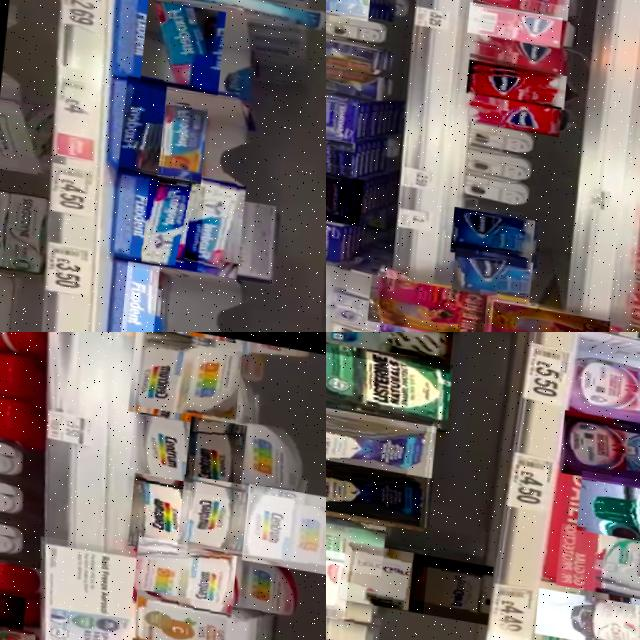Mouthwash: (326, 332, 453, 428), (326, 387, 436, 479), (326, 438, 433, 523)
Other: (126, 332, 241, 421), (132, 528, 238, 612), (131, 581, 271, 640), (241, 473, 326, 566), (558, 400, 640, 496), (555, 514, 640, 605), (369, 267, 489, 330), (562, 339, 640, 435), (341, 537, 430, 609), (535, 579, 640, 640), (409, 547, 495, 618), (128, 398, 199, 483), (177, 466, 250, 548), (576, 460, 640, 549), (128, 465, 194, 547), (183, 407, 246, 491), (451, 197, 537, 258), (490, 290, 612, 332), (465, 22, 574, 69), (467, 49, 568, 98), (326, 494, 386, 572), (453, 239, 535, 292), (467, 82, 563, 125), (0, 380, 58, 442), (0, 332, 51, 400), (326, 585, 382, 640), (326, 56, 383, 96), (326, 162, 365, 219), (326, 31, 383, 68), (326, 85, 360, 138), (0, 550, 36, 598), (326, 129, 356, 177), (326, 209, 352, 259), (0, 578, 26, 627)
Toothpaste: (184, 171, 246, 274), (142, 172, 206, 266), (117, 71, 166, 176), (157, 97, 207, 184), (114, 170, 161, 260), (120, 256, 160, 332)
